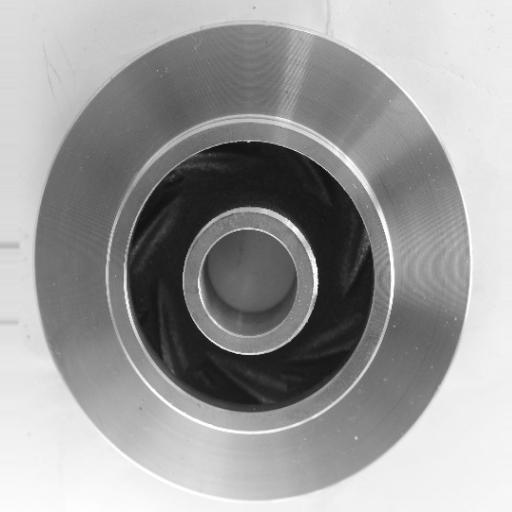polished_casting: (32, 20, 474, 501)
